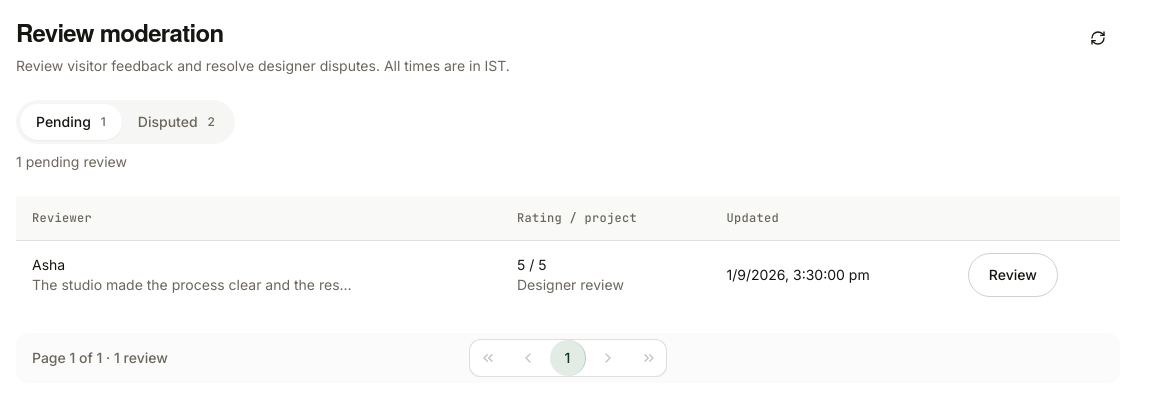
it: AdminReviewQueue › shows refresh queue as an icon button with a tooltip and refreshes every queue count
Expected: the icon in the row of "Review moderation" is shown, [1090,30,1106,46]
Step 1. Hover over the button named "Refresh queue" → (1098, 38), box [1076,16,1120,60]
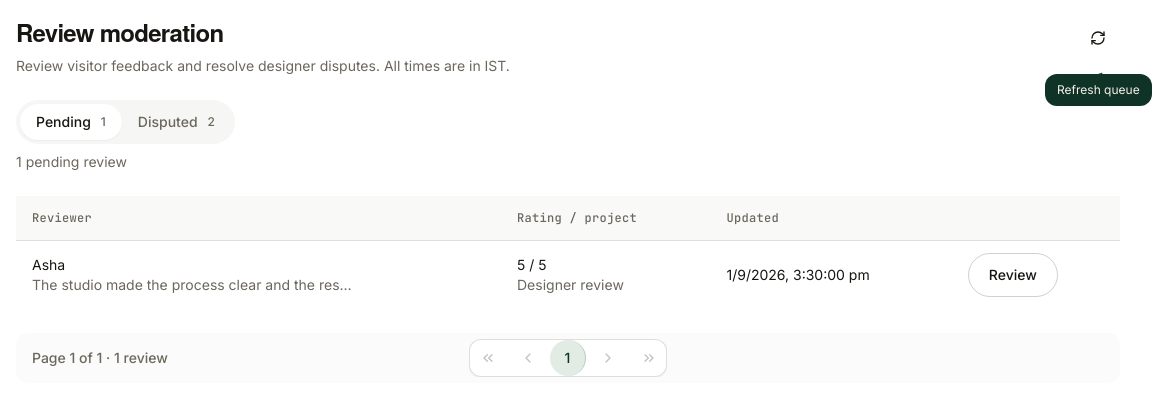
Expected: the tooltip reads "Refresh queue", [1057,82,1140,97]
Step 2. Click the button named "Refresh queue" → (1098, 38), box [1076,16,1120,60]
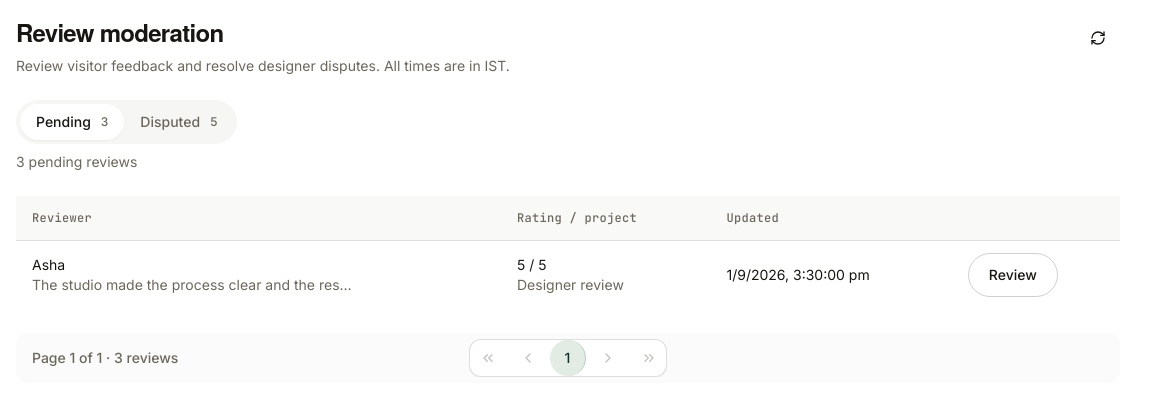
Expected: the tab "Pending 3" is shown, [20,104,124,140]
Expected: the tab "Disputed 5" is shown, [124,104,233,140]
